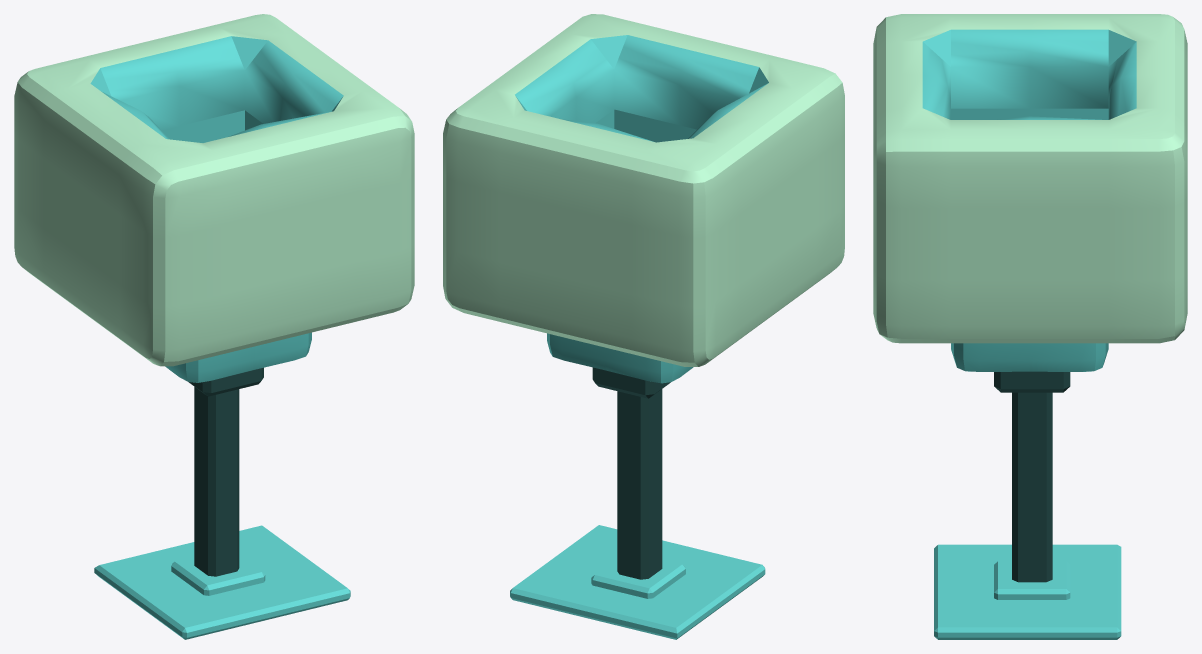
The model's file is CAWAN.FBX.
3 views of the same model, side by side, from view 1: azimuth 30°, elevation 25°; view 2: azimuth 150°, elevation 25°; view 3: azimuth 270°, elevation 25° (orthographic). The views are drawn at different scales.
Parts seen in each view (by area): view 1: Box006; view 2: Box006; view 3: Box006.
Part boxes in pixels (<box>): Box006: <box>14,14,414,639</box>; Box006: <box>443,14,844,639</box>; Box006: <box>873,14,1187,639</box>.
Size of the model in its own units: 229 by 410 by 224.
